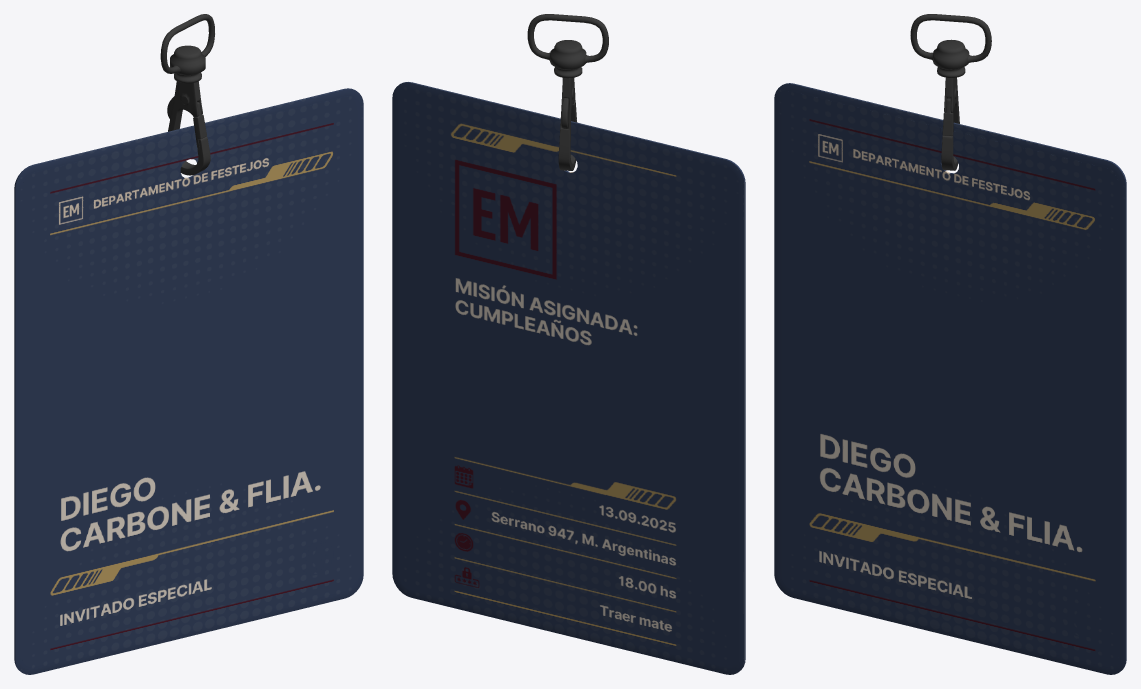
File: diego-carbone.glb
3 renders of one model, left to right at view 1: azimuth 30°, elevation 25°; view 2: azimuth 150°, elevation 25°; view 3: azimuth 330°, elevation 25°, orthographic.
Visible parts, largest first — view 1: card, clamp, clip; view 2: card, clip, clamp; view 3: card, clip, clamp.
Part boxes in pixels (x1,y1,x2,y2): card: (14,88,363,674); clamp: (167,81,210,175); clip: (160,14,214,83); card: (392,82,745,674); clip: (527,14,608,78); clamp: (558,77,577,170); card: (774,83,1126,674); clip: (910,14,991,77); clamp: (941,77,959,170).
Size of the model in its own units: 0.7164 by 1.21 by 0.0903.
2 materials, 1 textured.
